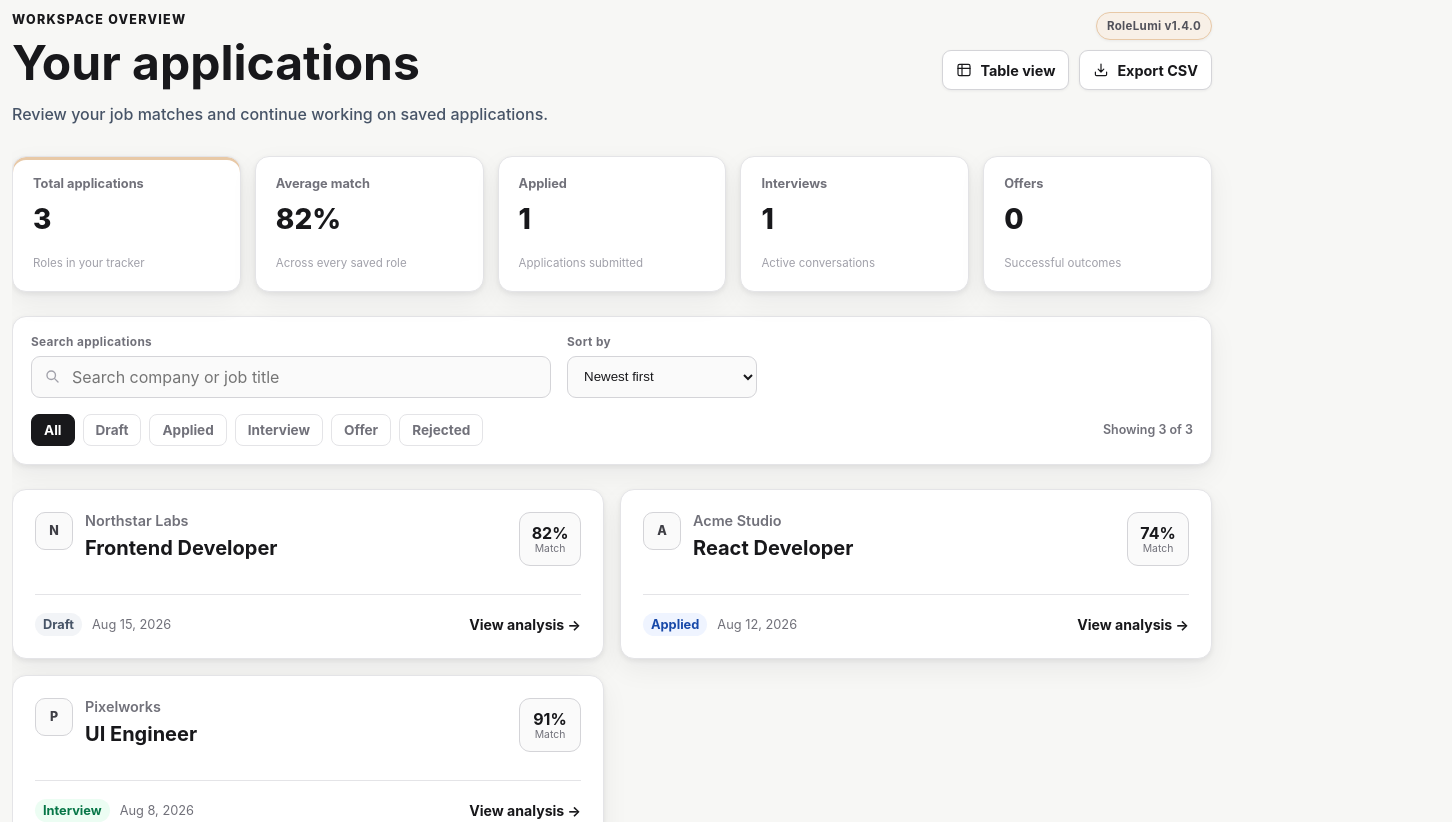
Scenario: DashboardPage › switches between card and concise table views
Expected: the text "Northstar Labs" is shown, x1=85 y1=512 x2=188 y2=529
What coordinates should you click on to do the following:
click the button "Table view"
I would click on:
 (1006, 70)
Its box is x1=942 y1=50 x2=1069 y2=90.
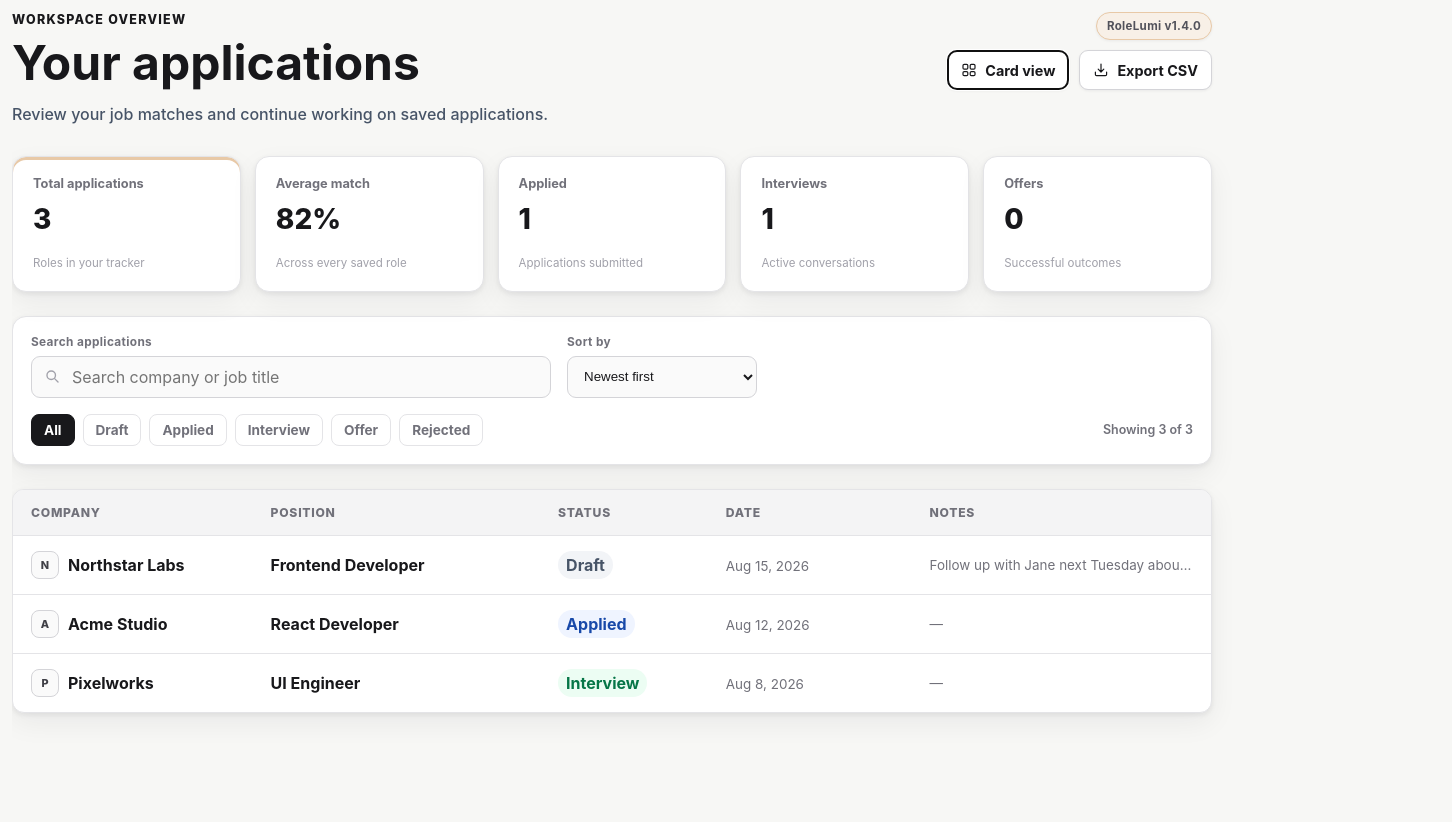
Result: the element named "Application table" is shown at x1=12 y1=489 x2=1212 y2=713
Result: the column heading "Company" is shown at x1=13 y1=490 x2=253 y2=535
Result: the column heading "Position" is shown at x1=253 y1=490 x2=540 y2=535
What coordinates should you click on to do the following:
click the button "Card view"
I would click on:
 (1008, 70)
Its box is x1=947 y1=50 x2=1069 y2=90.
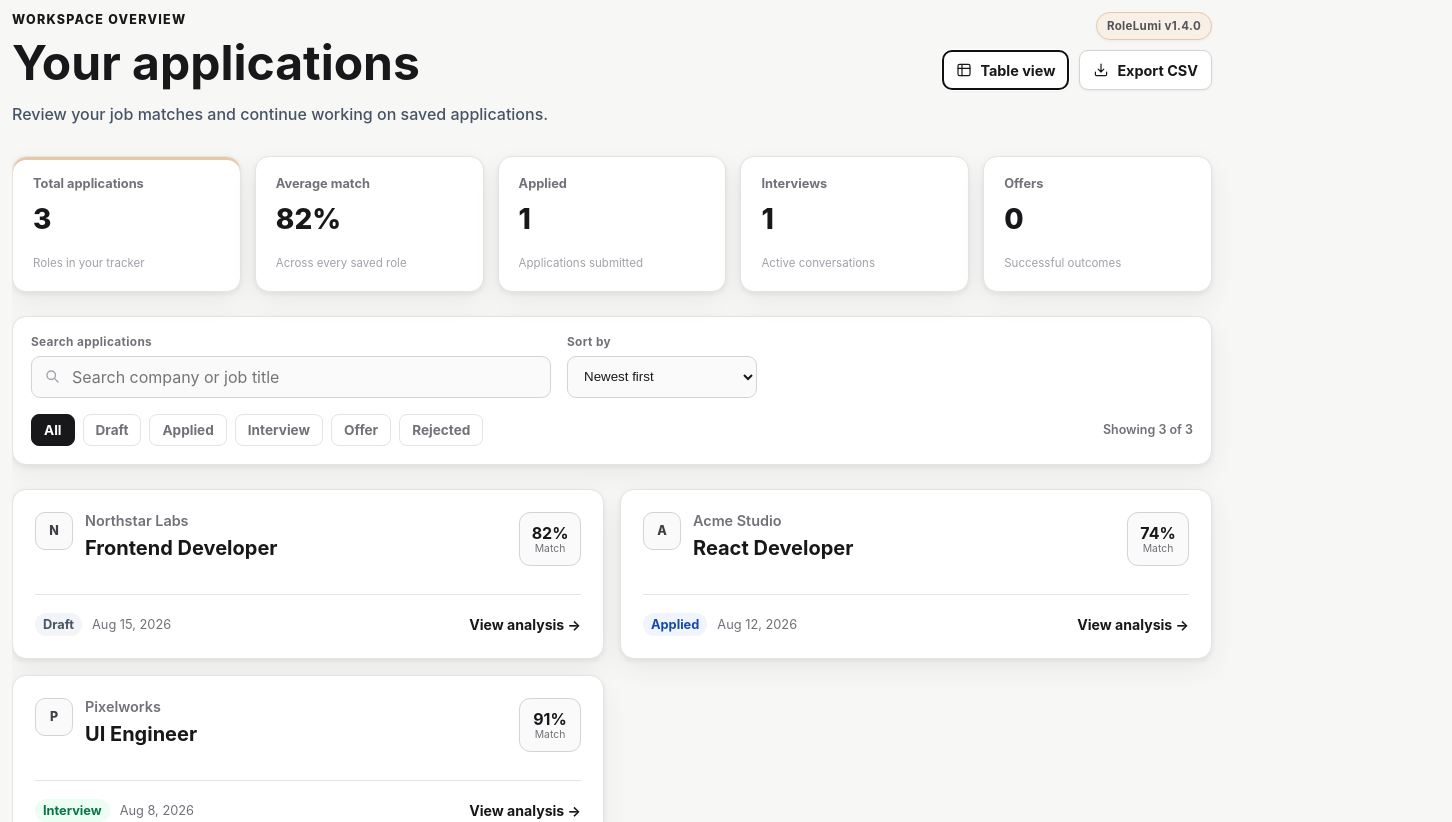
Result: the table "Application table" is gone
